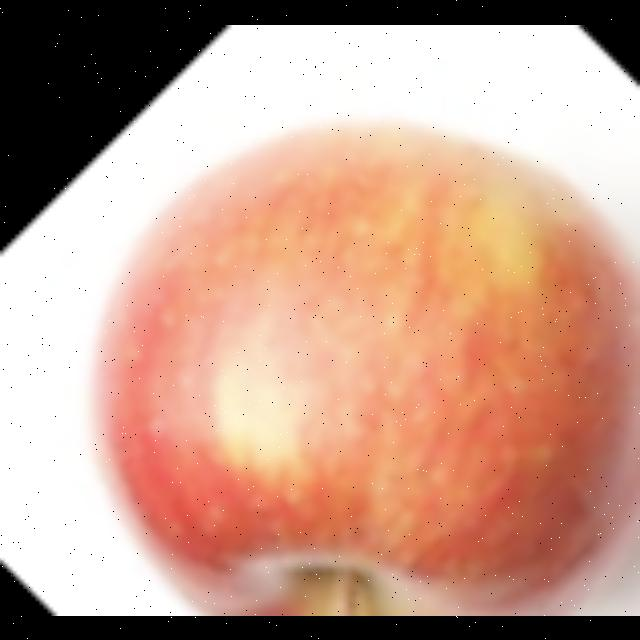Apel Segar: (95, 128, 640, 615)
